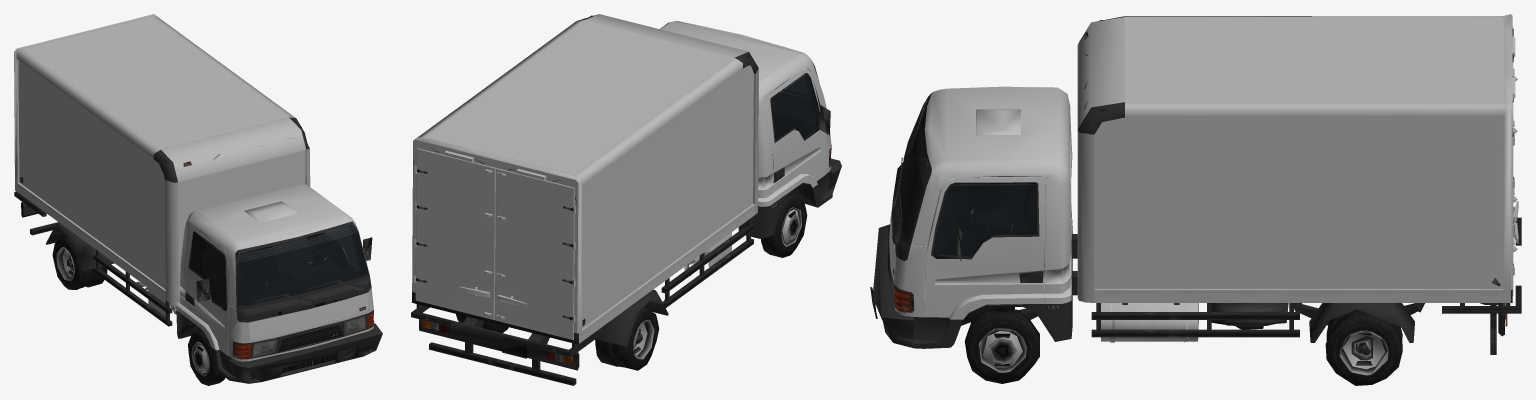
The model's file is truck.glb.
3 renders of one model, left to right at view 1: azimuth 30°, elevation 25°; view 2: azimuth 150°, elevation 25°; view 3: azimuth 270°, elevation 25°, orthographic. The views are drawn at different scales.
Parts seen in each view (by area): view 1: LCT300095_Body_lct3000_Bodymat_0, LCT300095_Bottom_UCB_BOTTOM_0, LCT300095_Windshield_UCB_Lights_and_Glass_Transperent_0, LCT300095_Interior_UCB_Interiors_2_0, LCT300095_WheelStock_FL_RB1c_Tire_1k_0, LCT300095_Headlights_UCB_Lights_and_Glass_0; view 2: LCT300095_Body_lct3000_Bodymat_0, LCT300095_Bottom_UCB_BOTTOM_0, LCT300095_WheelStock_FL_RB1c_Tire_1k_0, LCT300095_Windshield_UCB_Lights_and_Glass_Transperent_0, LCT300095_Interior_UCB_Interiors_2_0; view 3: LCT300095_Body_lct3000_Bodymat_0, LCT300095_Bottom_UCB_BOTTOM_0, LCT300095_WheelStock_FL_RB1c_Tire_1k_0, LCT300095_Windshield_UCB_Lights_and_Glass_Transperent_0, LCT300095_Interior_UCB_Interiors_2_0.
Part boxes in pixels (x1,y1,x2,y2): LCT300095_Body_lct3000_Bodymat_0: [14, 17, 373, 361]; LCT300095_Bottom_UCB_BOTTOM_0: [14, 14, 382, 383]; LCT300095_Windshield_UCB_Lights_and_Glass_Transperent_0: [189, 225, 374, 358]; LCT300095_Interior_UCB_Interiors_2_0: [190, 225, 367, 349]; LCT300095_WheelStock_FL_RB1c_Tire_1k_0: [52, 236, 225, 385]; LCT300095_Headlights_UCB_Lights_and_Glass_0: [233, 313, 371, 358]; LCT300095_Body_lct3000_Bodymat_0: [412, 20, 831, 339]; LCT300095_Bottom_UCB_BOTTOM_0: [411, 14, 841, 385]; LCT300095_WheelStock_FL_RB1c_Tire_1k_0: [456, 193, 807, 370]; LCT300095_Windshield_UCB_Lights_and_Glass_Transperent_0: [422, 61, 831, 364]; LCT300095_Interior_UCB_Interiors_2_0: [769, 73, 819, 139]; LCT300095_Body_lct3000_Bodymat_0: [889, 14, 1515, 319]; LCT300095_Bottom_UCB_BOTTOM_0: [870, 14, 1521, 354]; LCT300095_WheelStock_FL_RB1c_Tire_1k_0: [964, 308, 1402, 385]; LCT300095_Windshield_UCB_Lights_and_Glass_Transperent_0: [890, 97, 1507, 326]; LCT300095_Interior_UCB_Interiors_2_0: [900, 108, 1039, 260].
Size of the model in its own units: 3.62 by 3.98 by 8.4.
7 materials, 6 textured.
